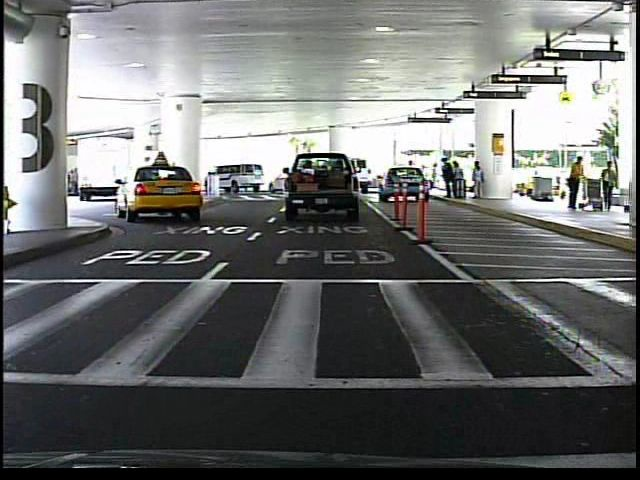person: (563, 154, 588, 214), (598, 158, 620, 214), (405, 158, 420, 193)
